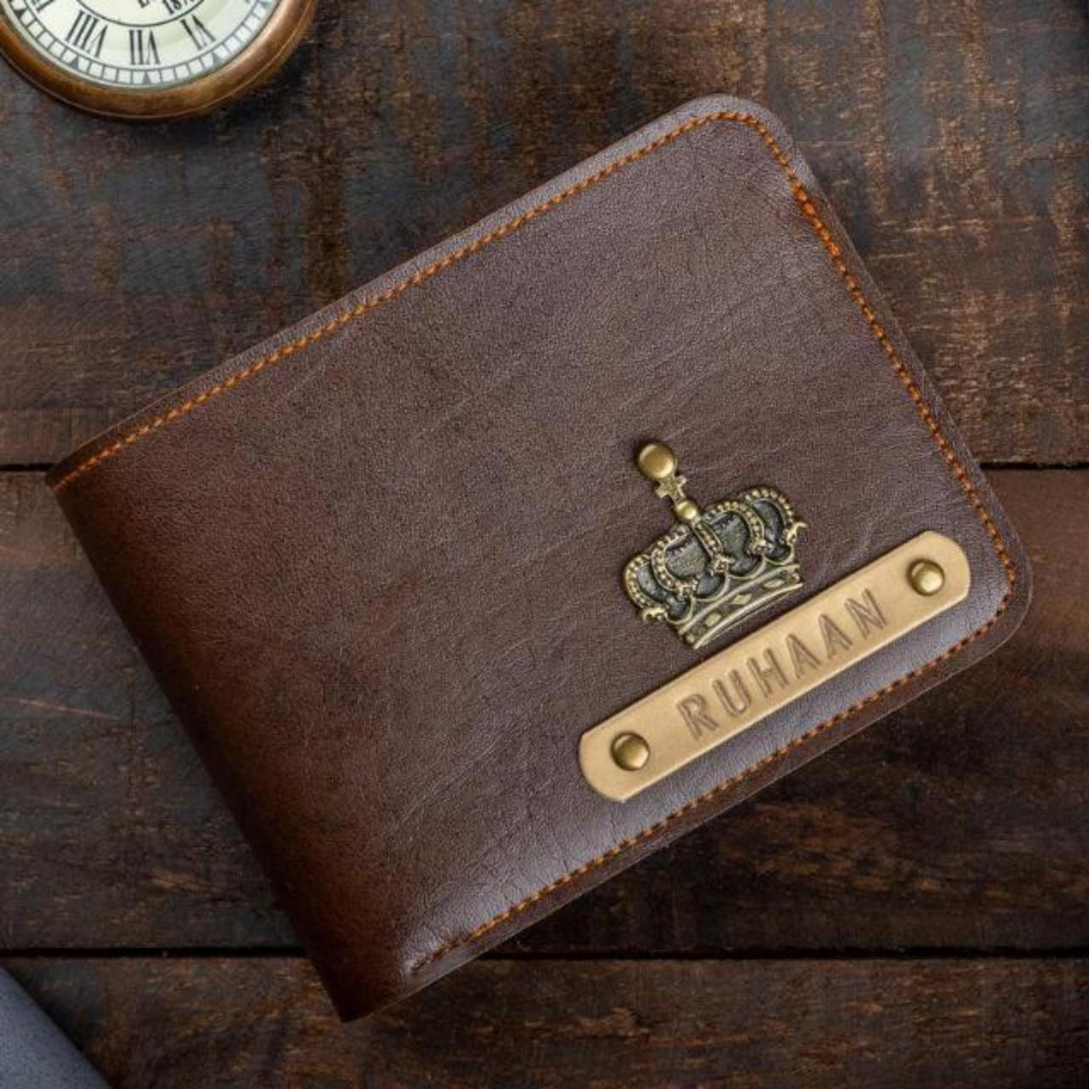wallet: (14, 93, 1046, 1030)
